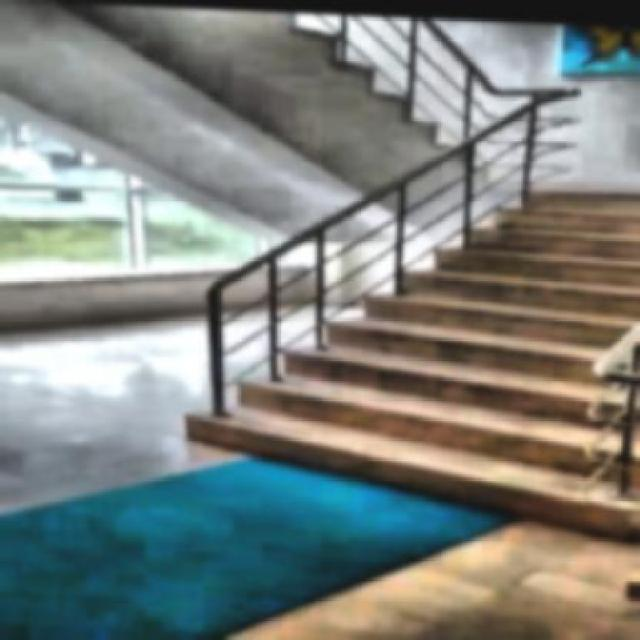stair: (144, 137, 638, 538)
